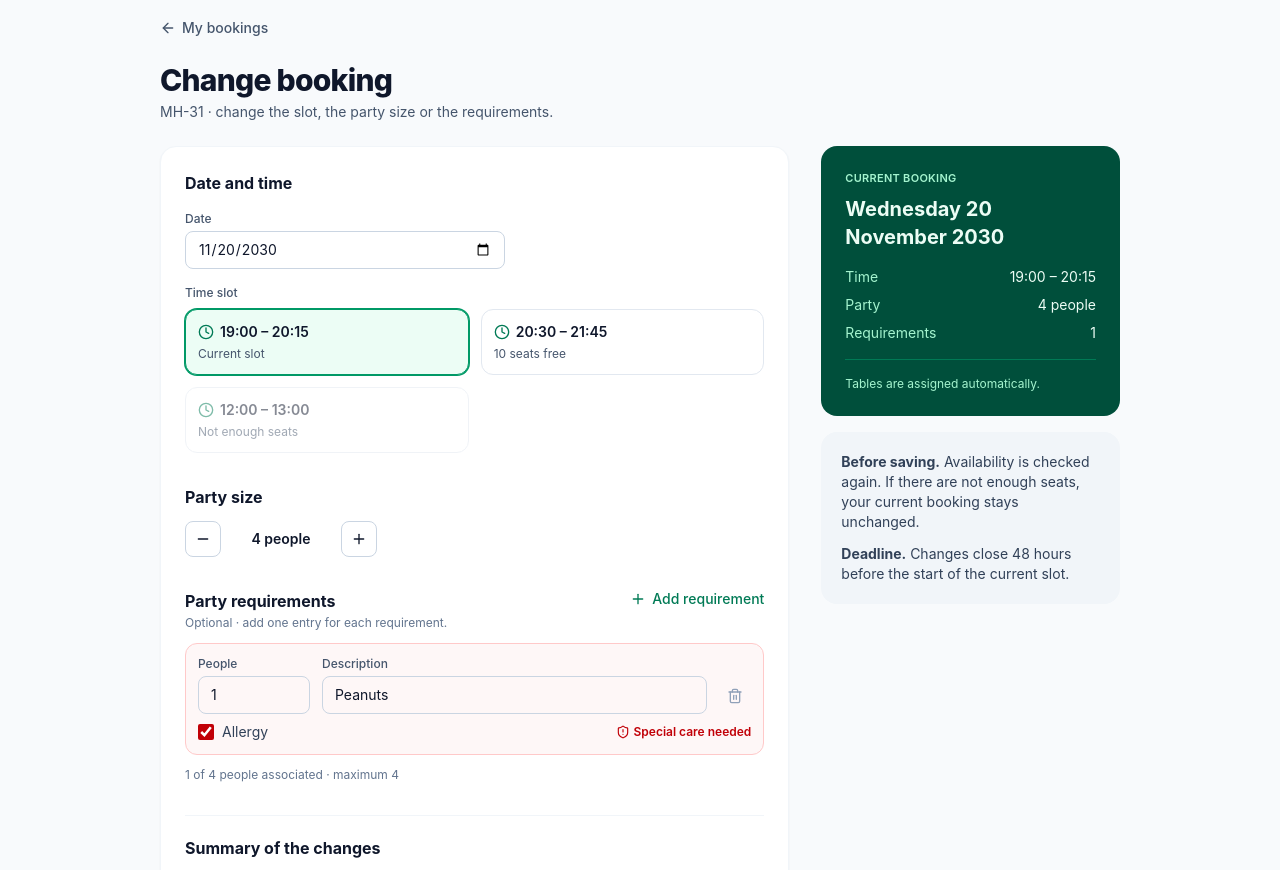
ChangeBooking › sends only the changed fields and shows the outcome with the email status
The width and height of the screenshot is (1280, 870).
Step 1. Click the button "20:30 – 21:45 10 seats free" → (561, 332), box [481,309,764,375]
(page scrolled)
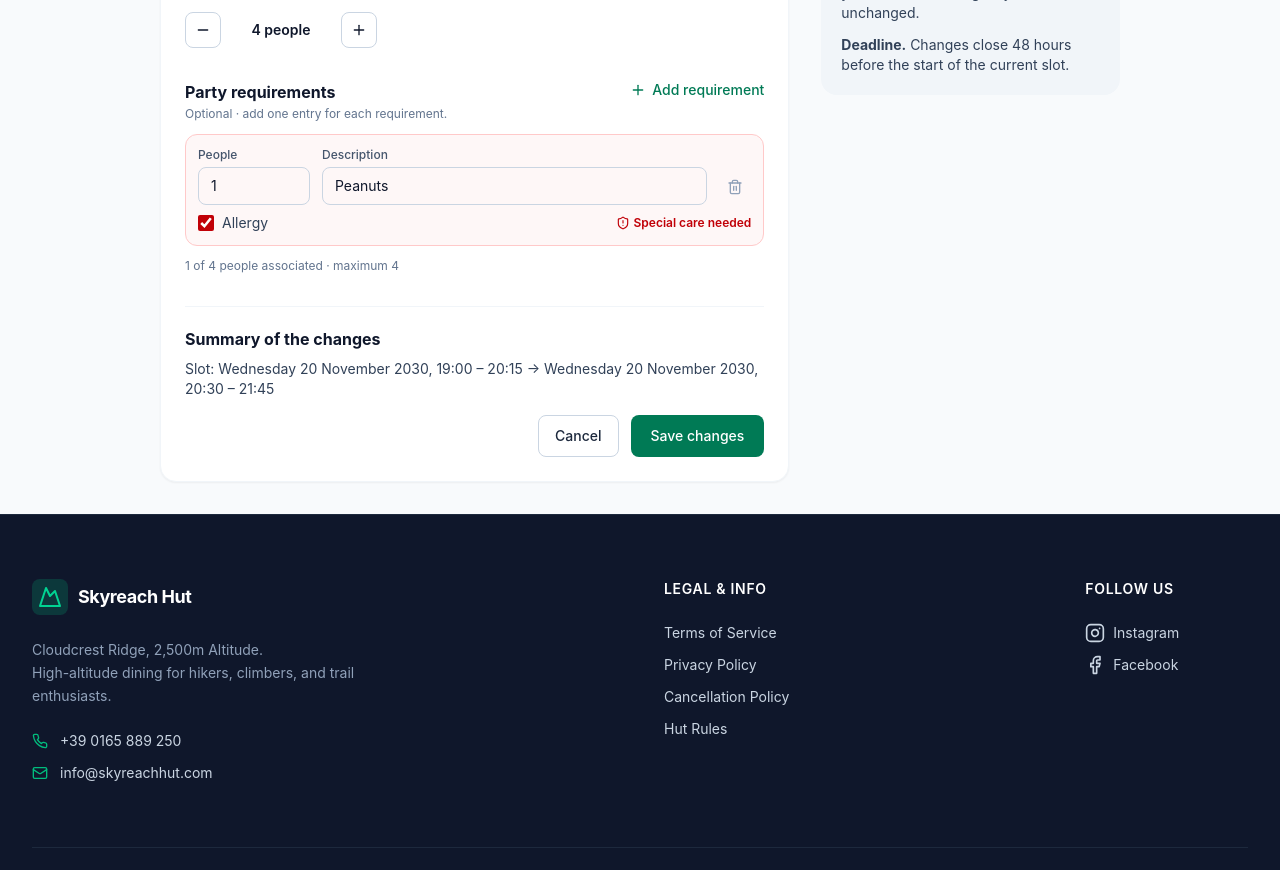
Step 2. Click the button "Save changes" → (697, 436), box [630,415,764,457]
(page scrolled)
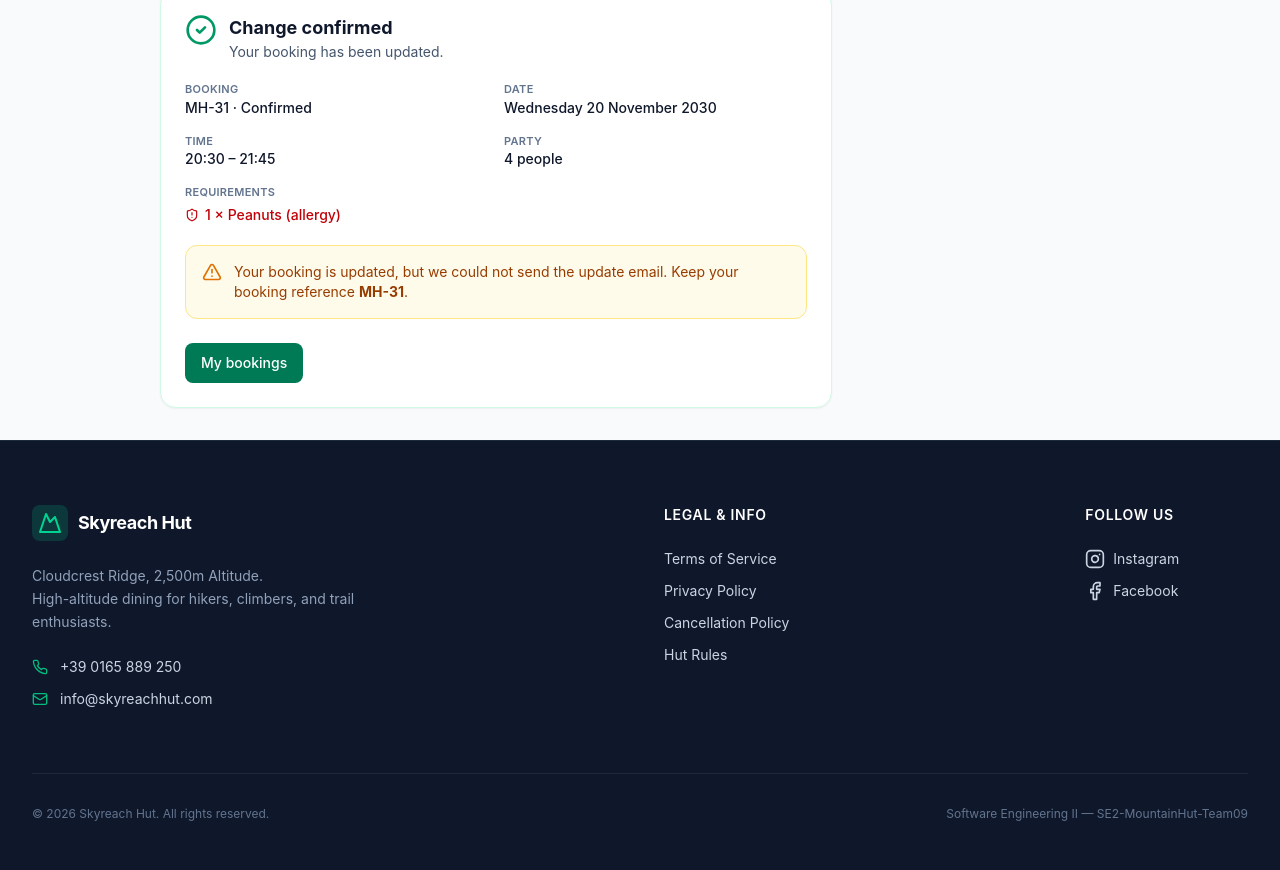
Expected: the heading "Change confirmed" is shown, [229,17,392,38]
Expected: the text "could not send the update email" is shown, [234,263,738,300]
